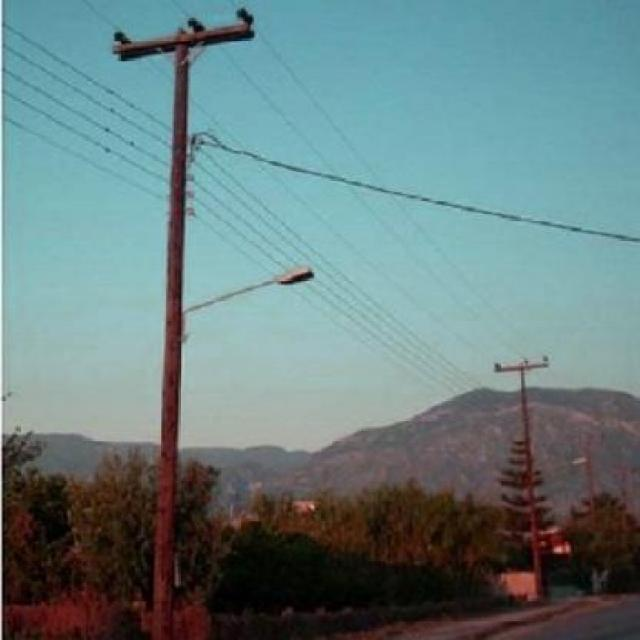pole: (102, 9, 263, 623), (491, 345, 563, 457)
